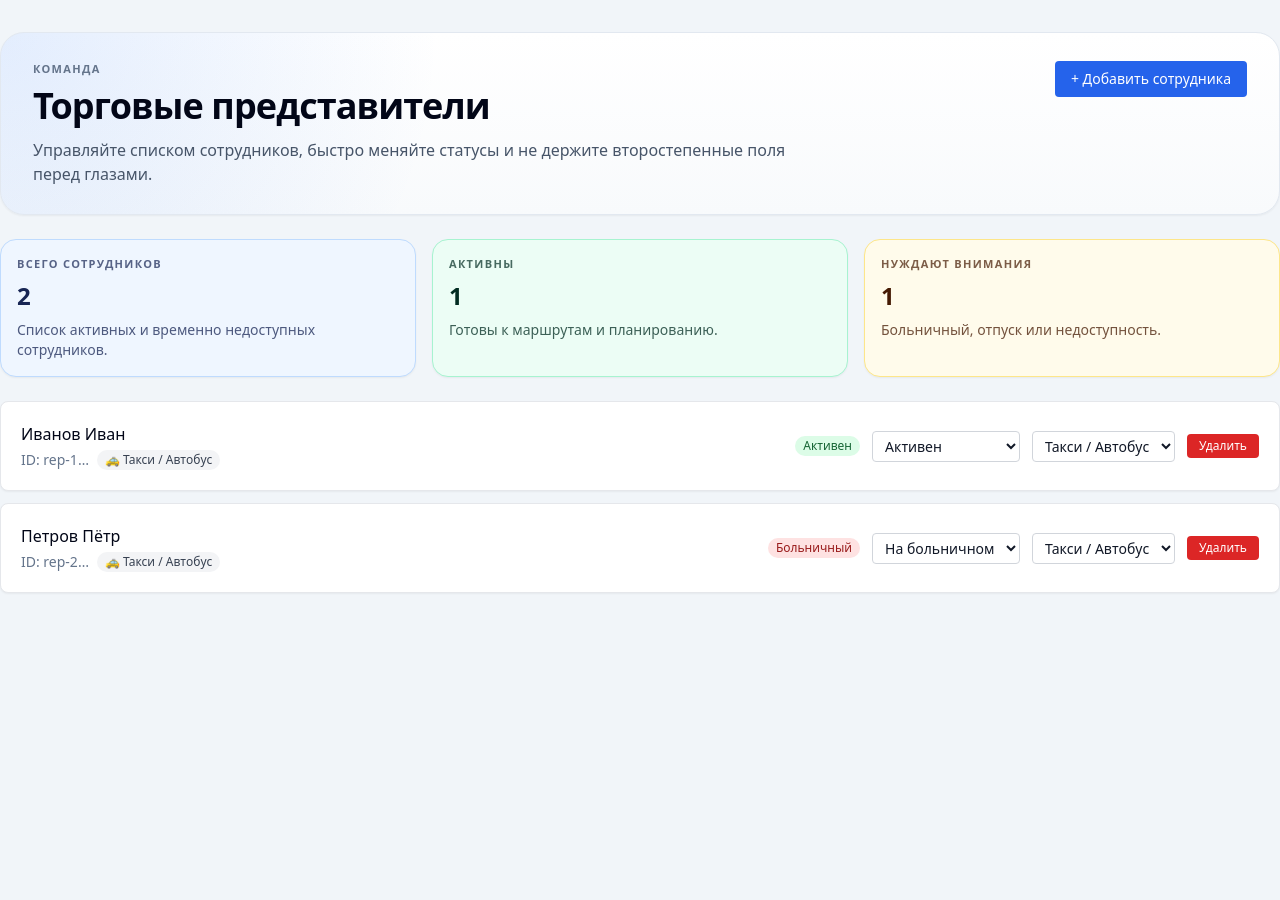
Test: RepsView.vue › открывает форму добавления при клике на кнопку
Step 1. Click the button "+ Добавить сотрудника" → (1151, 79), box left=1055, top=61, right=1247, bottom=97
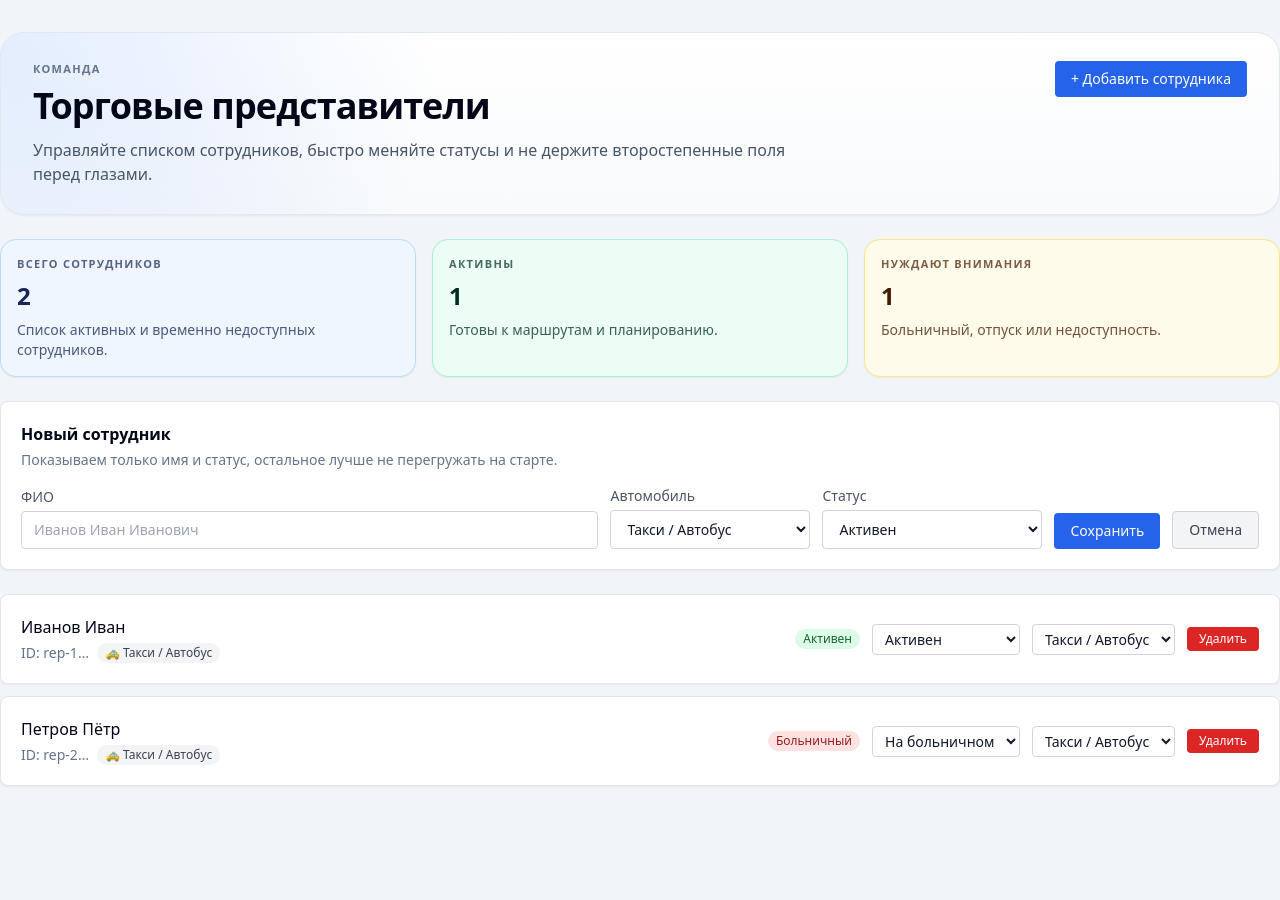
Expected: the text "Новый сотрудник" is shown, left=21, top=423, right=171, bottom=445
